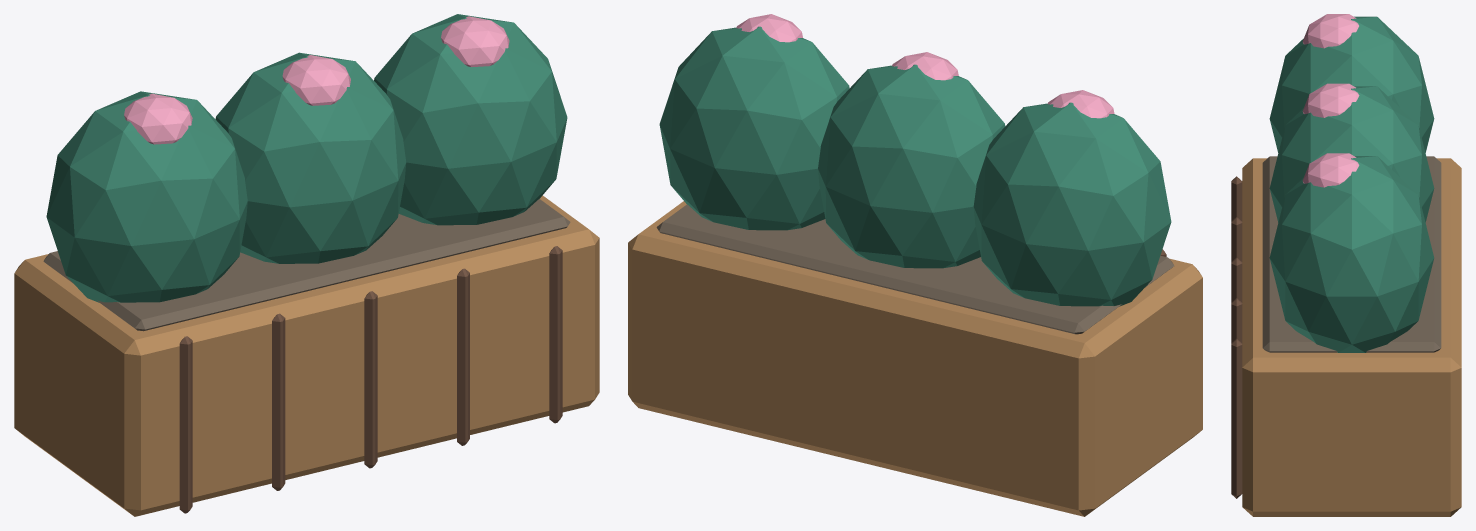
Rendered from flower-planter.glb.
3 views of the same model, side by side, from view 1: azimuth 30°, elevation 25°; view 2: azimuth 150°, elevation 25°; view 3: azimuth 270°, elevation 25° (orthographic). The views are drawn at different scales.
Visible parts, largest first — view 1: planter-body, plant-leaves, plant-leaves.002, plant-leaves.001, planter-soil, flower, flower.002, flower.001, planter-slat.004, planter-slat, planter-slat.002, planter-slat.001 (+1 smaller); view 2: planter-body, plant-leaves, plant-leaves.002, plant-leaves.001, planter-soil, flower.001, flower.002, flower; view 3: planter-body, plant-leaves.002, plant-leaves, plant-leaves.001, planter-soil, planter-slat.004, flower.001, flower.002, flower, planter-slat.003, planter-slat, planter-slat.001 (+1 smaller).
Part boxes in pixels (bbox=[...]): planter-body: bbox=[14, 195, 599, 516]; plant-leaves: bbox=[46, 91, 247, 302]; plant-leaves.002: bbox=[374, 14, 567, 225]; plant-leaves.001: bbox=[215, 52, 406, 263]; planter-soil: bbox=[43, 199, 570, 331]; flower: bbox=[124, 93, 192, 144]; flower.002: bbox=[441, 16, 509, 67]; flower.001: bbox=[282, 55, 350, 105]; planter-slat.004: bbox=[549, 246, 562, 423]; planter-slat: bbox=[179, 336, 192, 513]; planter-slat.002: bbox=[364, 291, 377, 468]; planter-slat.001: bbox=[272, 313, 285, 490]; planter-body: bbox=[628, 201, 1202, 516]; plant-leaves: bbox=[973, 102, 1171, 306]; plant-leaves.002: bbox=[659, 26, 849, 230]; plant-leaves.001: bbox=[818, 64, 1005, 268]; planter-soil: bbox=[656, 204, 1174, 334]; flower.001: bbox=[892, 52, 958, 80]; flower.002: bbox=[736, 14, 802, 42]; flower: bbox=[1047, 90, 1114, 118]; planter-body: bbox=[1242, 158, 1461, 516]; plant-leaves.002: bbox=[1269, 156, 1434, 352]; plant-leaves: bbox=[1269, 16, 1434, 152]; plant-leaves.001: bbox=[1269, 86, 1434, 222]; planter-soil: bbox=[1262, 156, 1441, 352]; planter-slat.004: bbox=[1231, 338, 1242, 498]; flower.001: bbox=[1302, 83, 1359, 117]; flower.002: bbox=[1302, 153, 1359, 187]; flower: bbox=[1302, 14, 1358, 48]; planter-slat.003: bbox=[1231, 298, 1242, 343]; planter-slat: bbox=[1231, 176, 1242, 221]; planter-slat.001: bbox=[1231, 217, 1242, 261].
Bounding box in the file's own units: 1.87 × 1.33 × 0.84.
